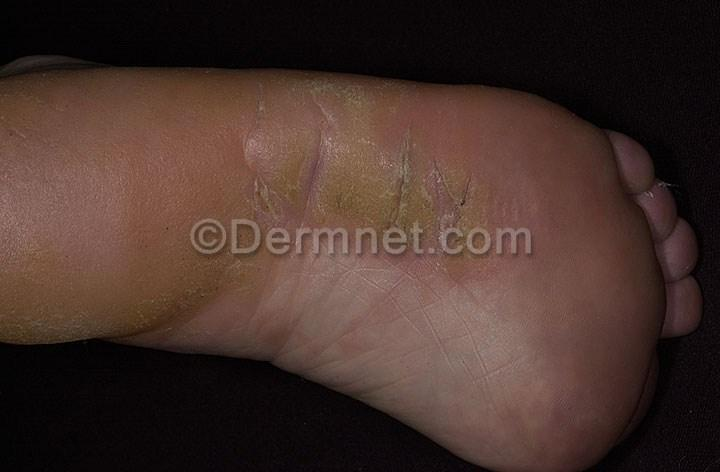Eczema: (224, 108, 513, 279)
